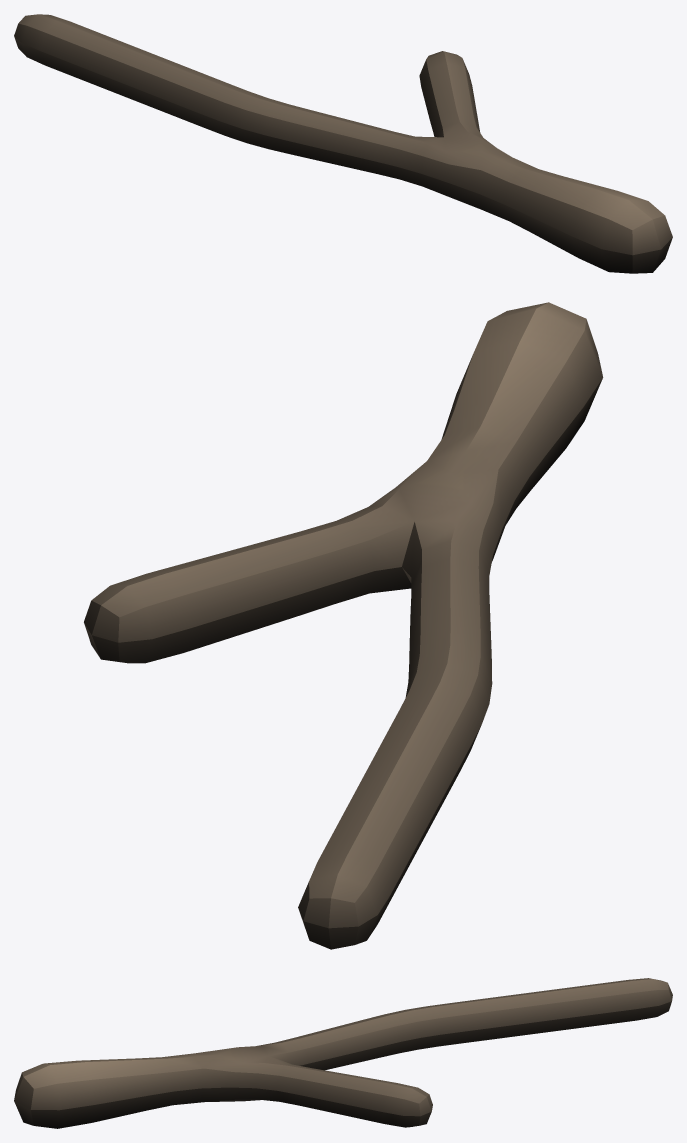
File: branch2.fbx
3 views of the same model, one above another, from view 1: azimuth 30°, elevation 25°; view 2: azimuth 150°, elevation 25°; view 3: azimuth 270°, elevation 25° (orthographic). The views are drawn at different scales.
Parts seen in each view (by area): view 1: branch7; view 2: branch7; view 3: branch7.
Part boxes in pixels (x1,y1,x2,y2): branch7: (14,14,672,273); branch7: (84,302,603,949); branch7: (14,978,672,1128).
Bounding box in the file's own units: 79.87 × 18.25 × 175.
